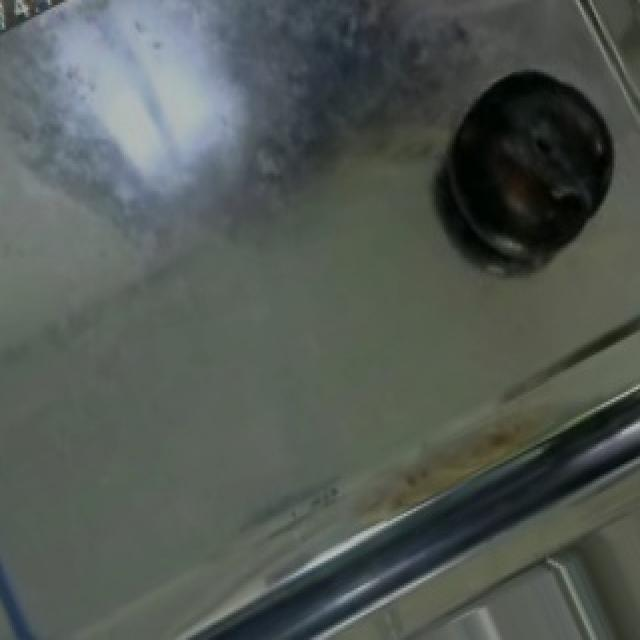Fruit: (432, 57, 638, 285)
